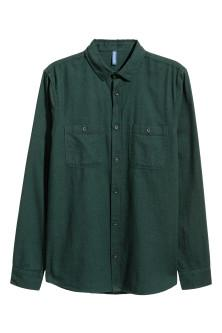teeshirt: (9, 37, 215, 296)
